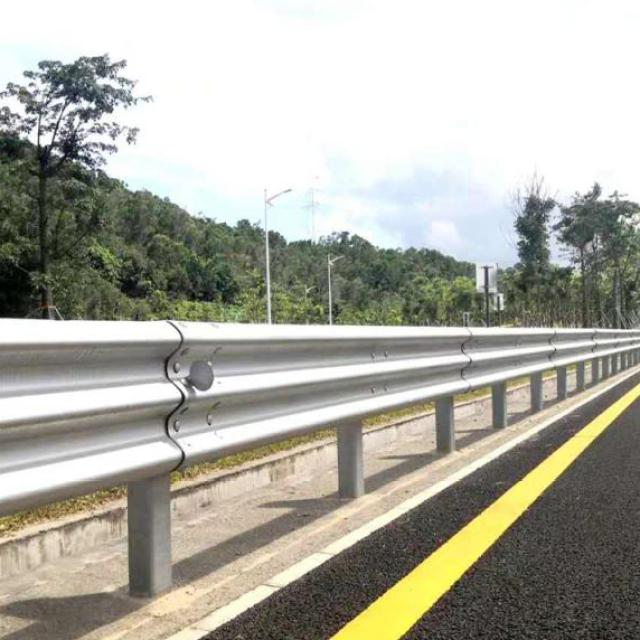Guard rail: (0, 319, 640, 596)
